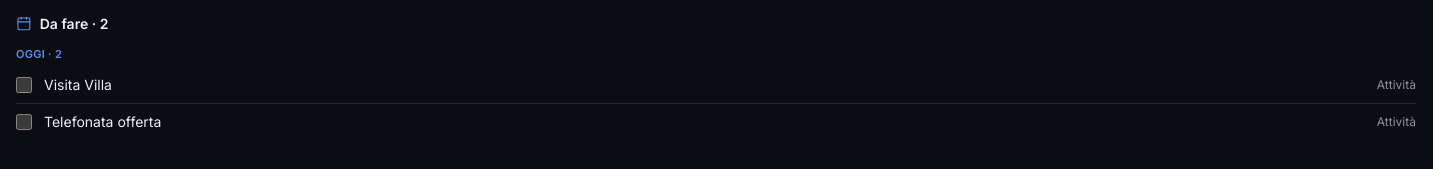
AgendaWidget: casella «fatto» › se il modulo rifiuta il passaggio la riga resta e si legge il motivo
Check: the text "Telefonata offerta" is shown, box [44,112,161,130]
Click the checkbox named "Segna come fatto: Telefonata offerta": (24, 122) [16,114,32,130]
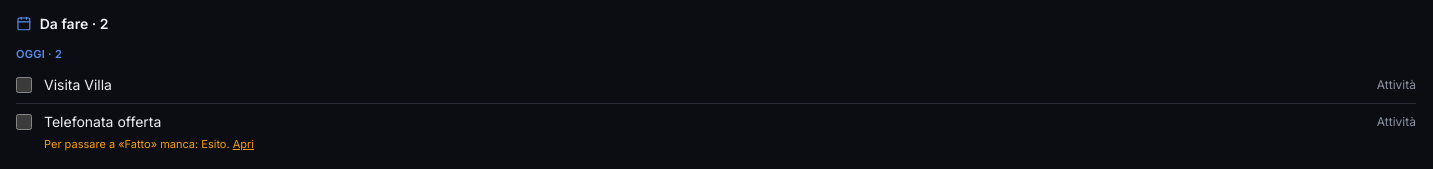
Check: the text "Telefonata offerta" is shown, box [44,112,161,130]
Check: the text "Per passare a «Fatto» manca: Esito. Apri" is shown, box [44,136,254,152]
